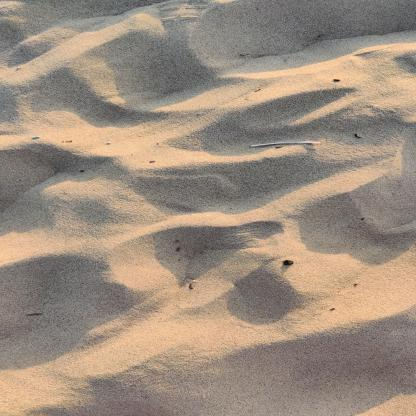plastik: (250, 141, 321, 147)
